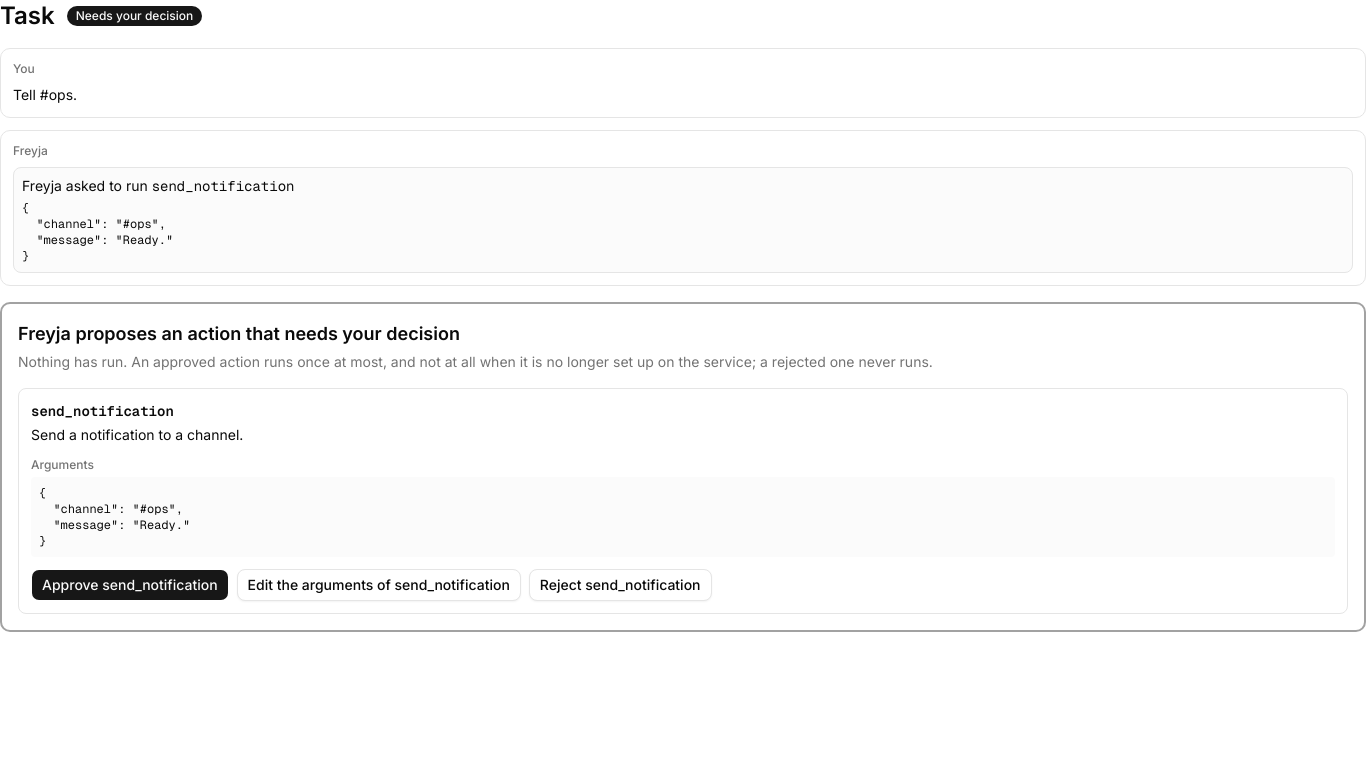
Test: a task's page with a proposal › shows the continuation of a decision as a run, also when it pauses again
Later steps or results of the test are not shown.
Step 1. Click the button "Approve send_notification" → (130, 585), box [31,569,229,601]
(page scrolled)
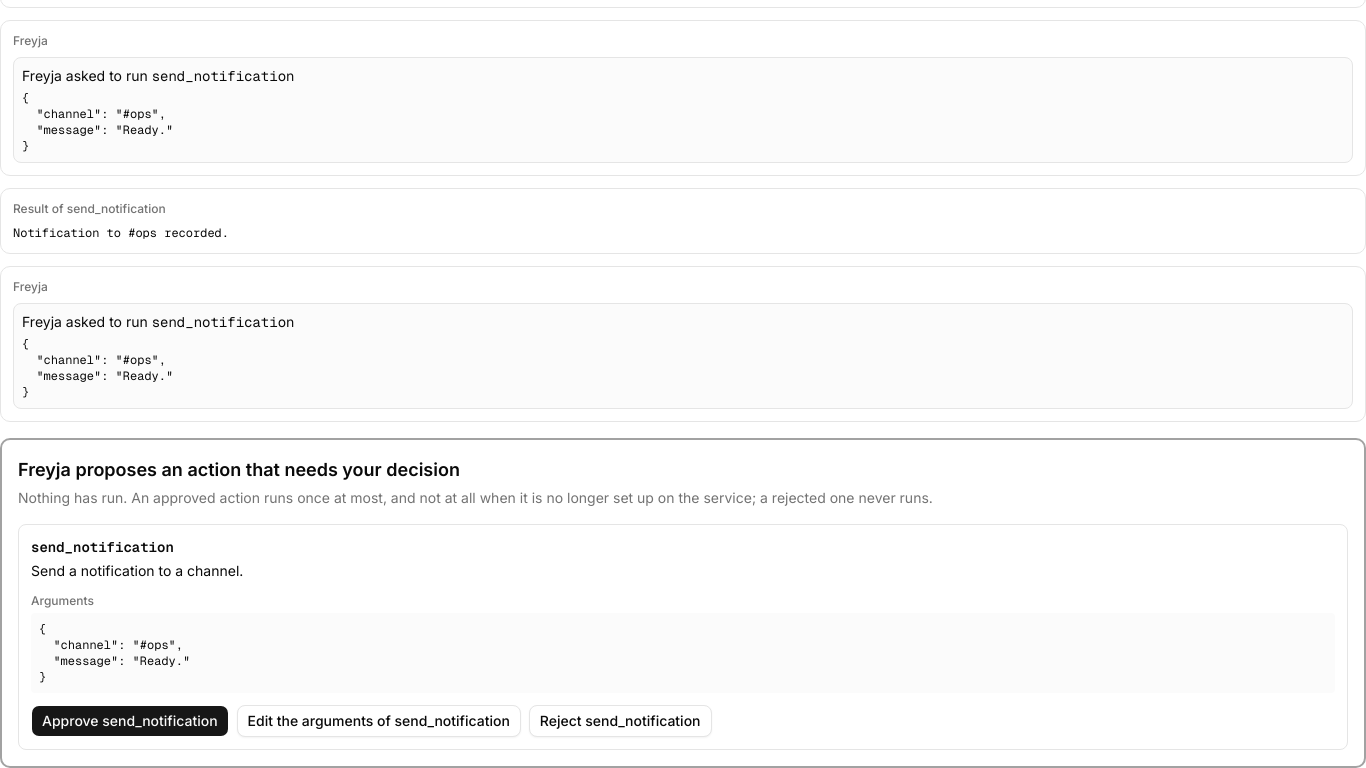
expect the button "Approve send_notification" is shown: met, box [31,705,229,737]
expect the list named "Conversation" shows "Notification to #ops recorded.": met, box [13,225,229,241]
